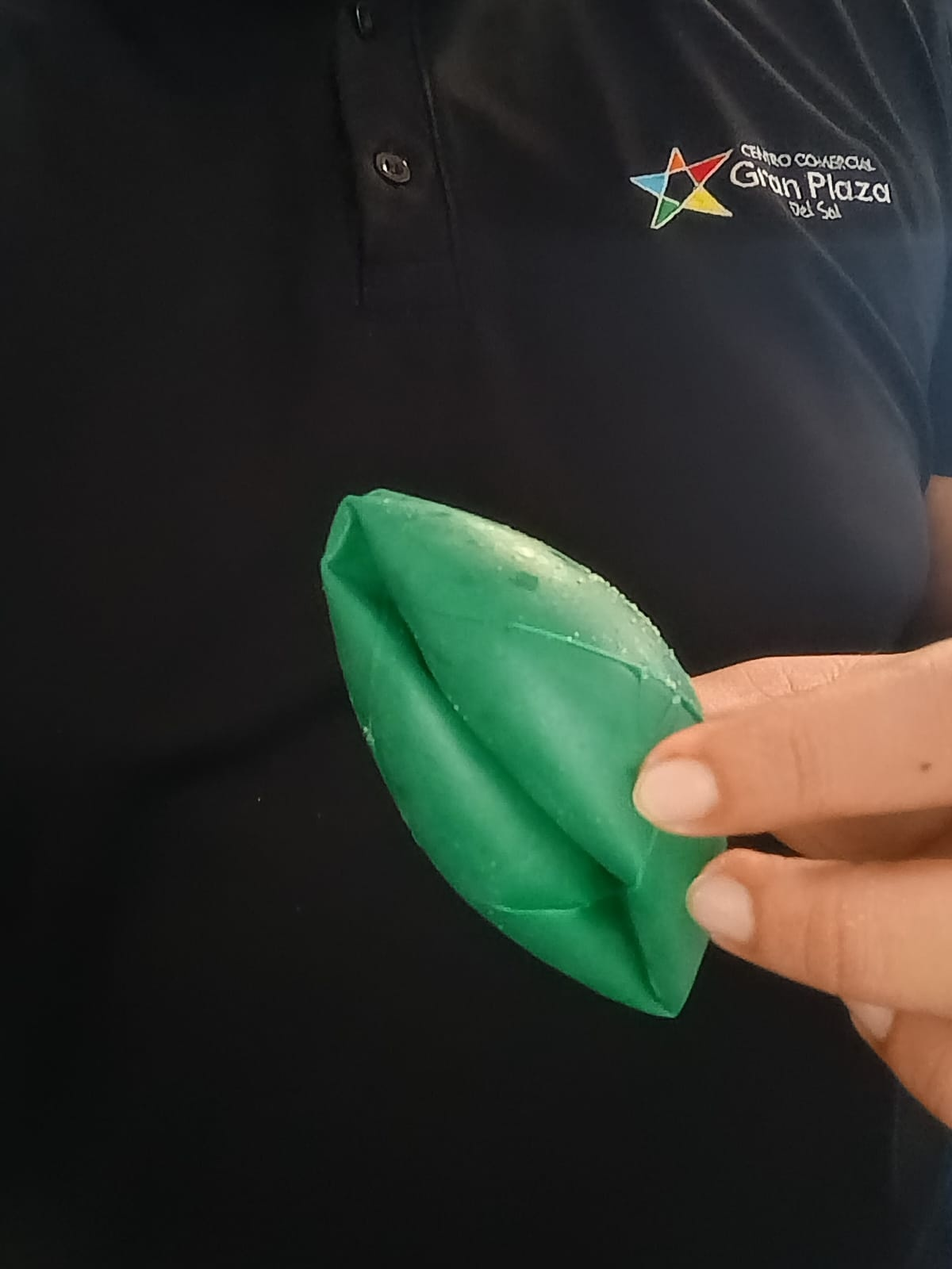Plastico: (313, 487, 712, 1019)
